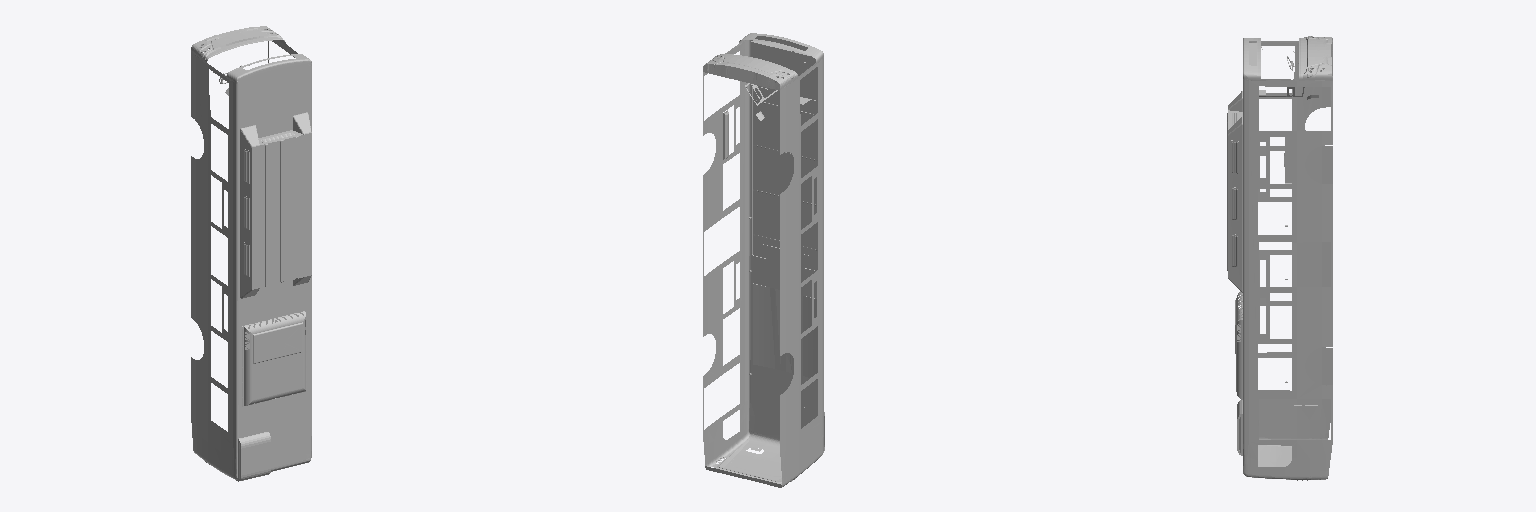
File: liaz_1586.obj
3 renders of one model, left to right at view 1: azimuth 30°, elevation 25°; view 2: azimuth 150°, elevation 25°; view 3: azimuth 270°, elevation 25°, orthographic.
Parts seen in each view (by area): view 1: Liaz1_hheh4_Liaz1_hheh4.001; view 2: Liaz1_hheh4_Liaz1_hheh4.001; view 3: Liaz1_hheh4_Liaz1_hheh4.001.
Part boxes in pixels (x1,y1,x2,y2): Liaz1_hheh4_Liaz1_hheh4.001: (191, 26, 311, 481); Liaz1_hheh4_Liaz1_hheh4.001: (703, 33, 824, 487); Liaz1_hheh4_Liaz1_hheh4.001: (1227, 36, 1332, 480).
Size of the model in its own units: 2 by 10.02 by 2.33.